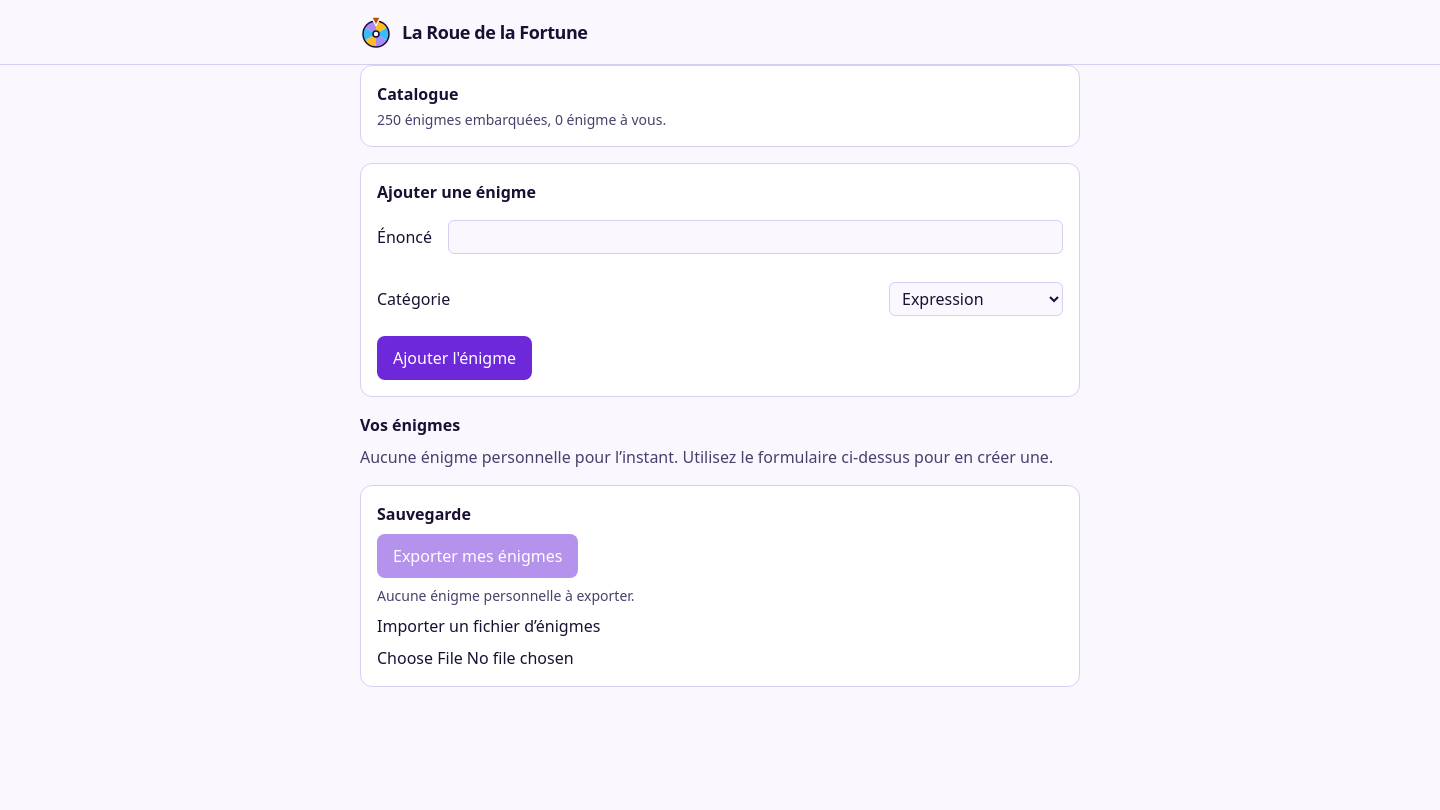
Scenario: PuzzleEditorRoute › modifie une énigme existante : le nouvel énoncé remplace l’ancien, sans doublon
The width and height of the screenshot is (1440, 810).
In the field labelled "Énoncé": (756, 237) x1=448 y1=220 x2=1063 y2=254, type "MAISON DE CAMPAGNE"
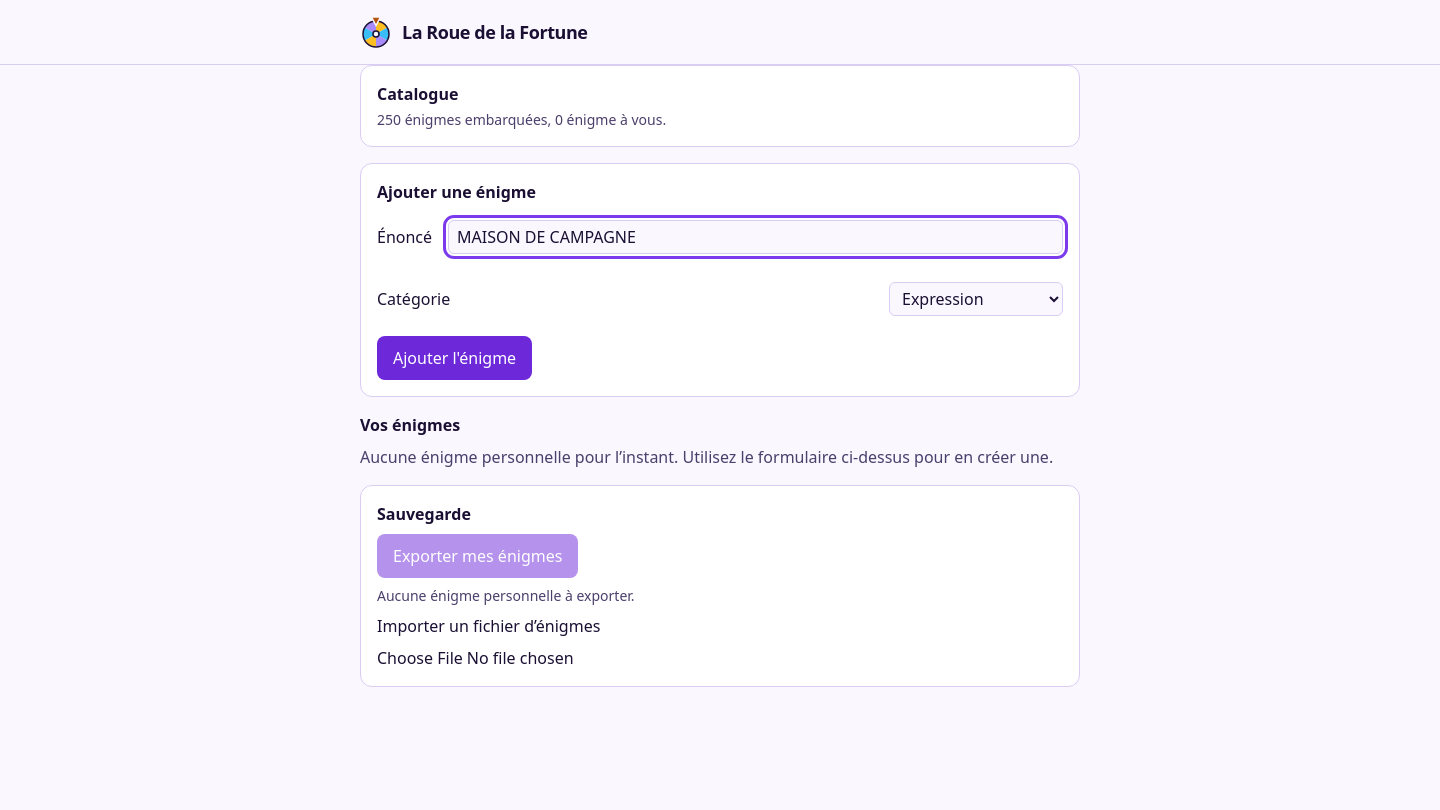
Click the button "Ajouter l'énigme": (455, 358) x1=377 y1=336 x2=532 y2=380
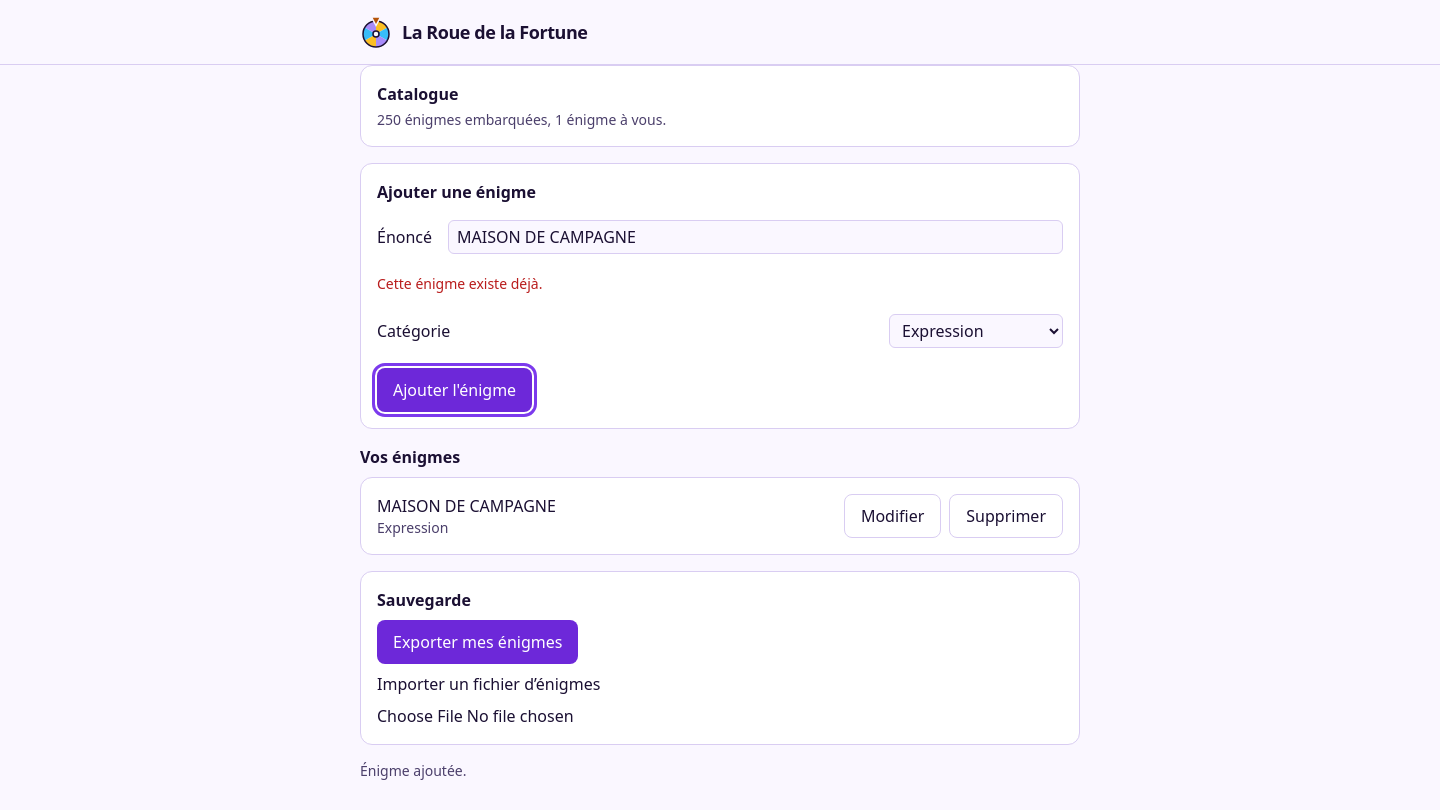
Expected: the text "MAISON DE CAMPAGNE" is shown, x1=377 y1=494 x2=556 y2=518
Click the button with aria-label "Modifier MAISON DE CAMPAGNE": (893, 516) x1=844 y1=494 x2=941 y2=538
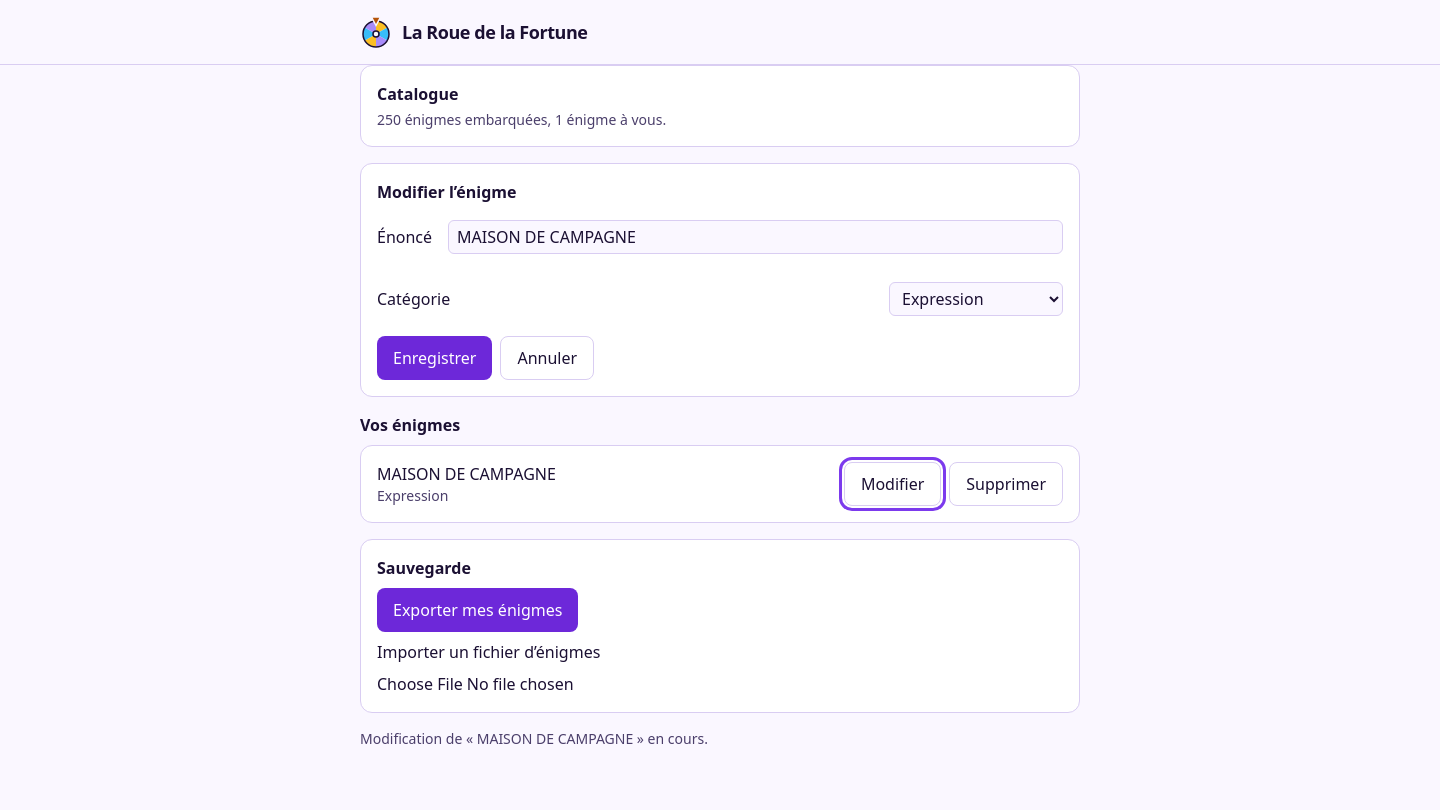
Replace the text in the field labelled "Énoncé" with "UNE VIEILLE FERME": (756, 237) x1=448 y1=220 x2=1063 y2=254
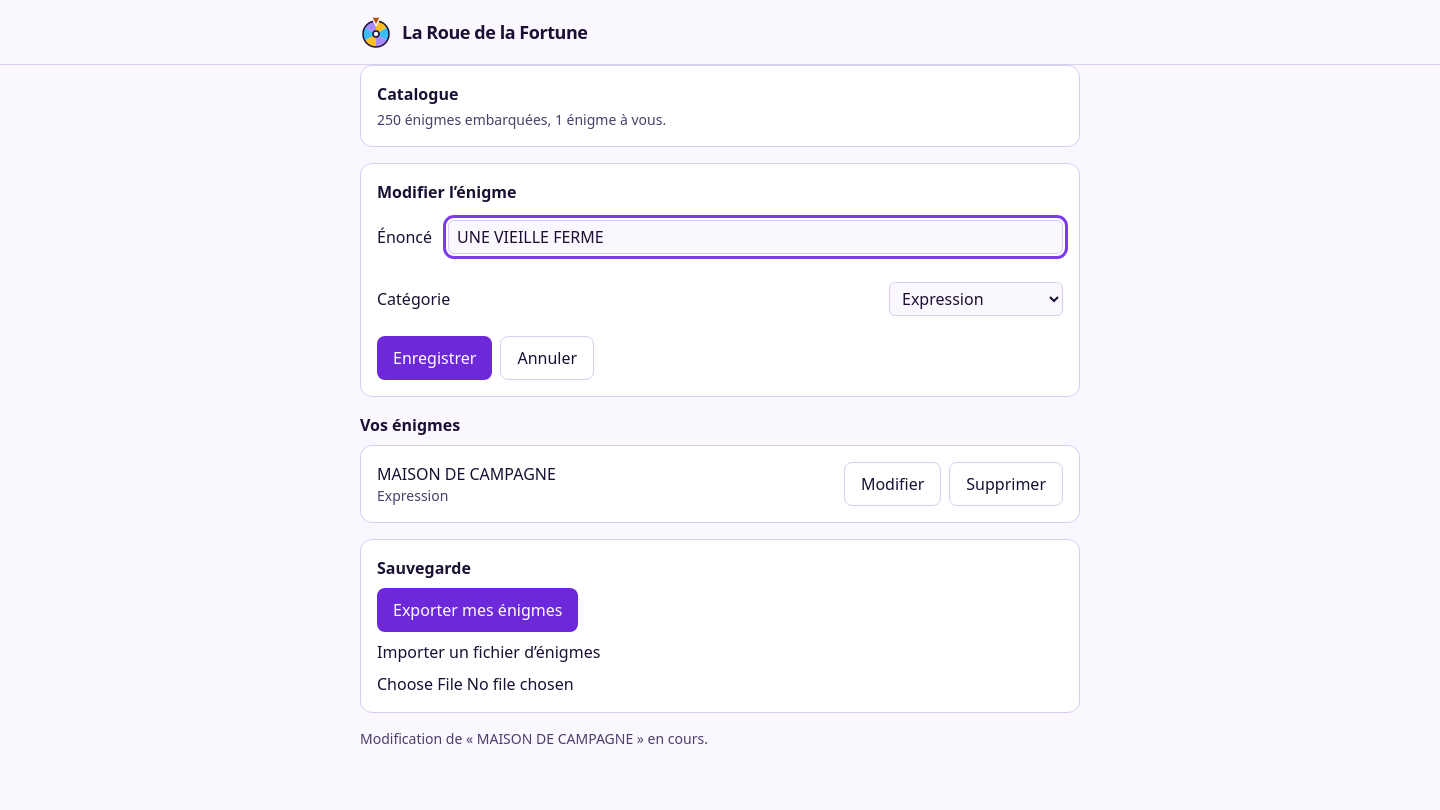
Click the button "Enregistrer": (435, 358) x1=377 y1=336 x2=492 y2=380
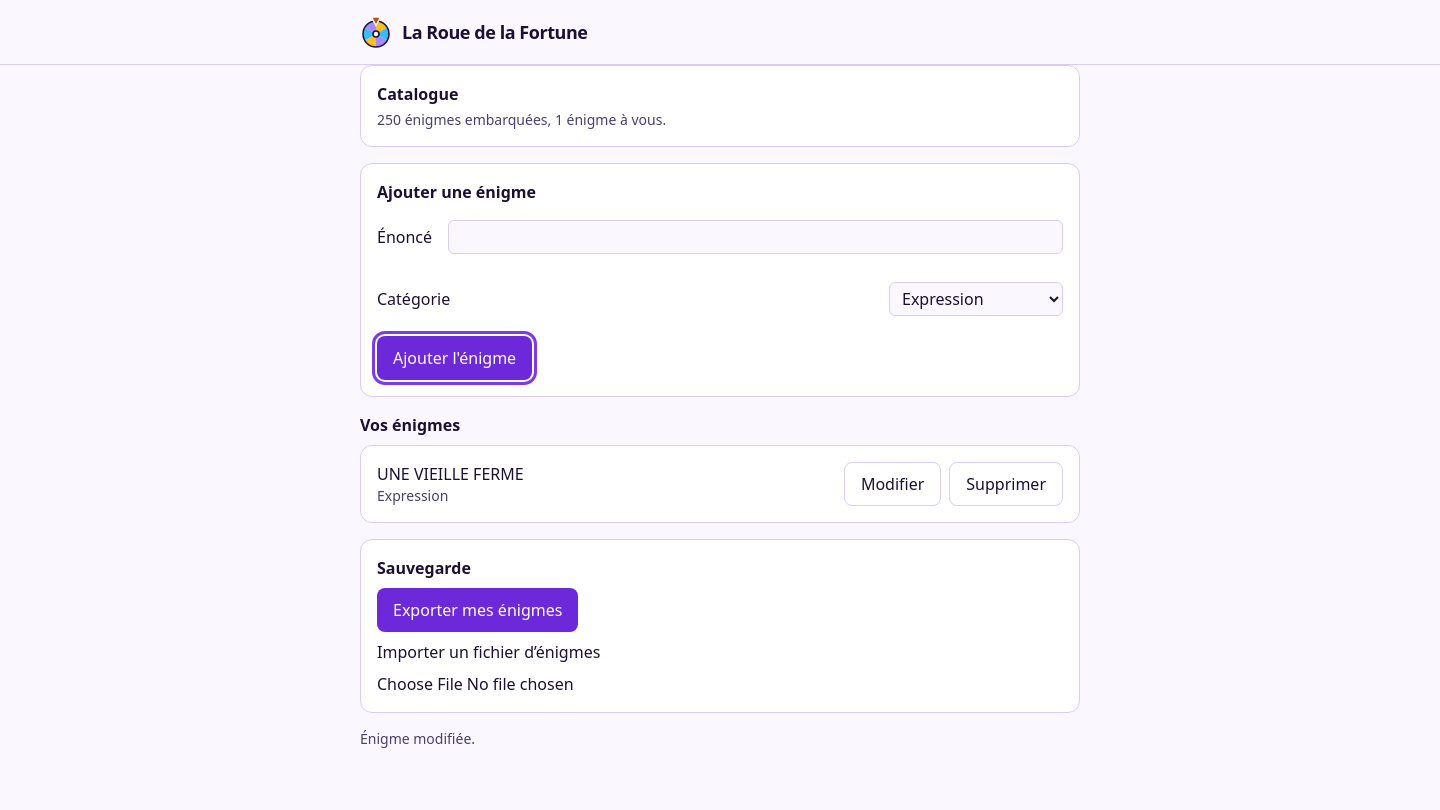
Expected: the text "UNE VIEILLE FERME" is shown, x1=377 y1=462 x2=524 y2=486
Expected: the text "MAISON DE CAMPAGNE" is gone
